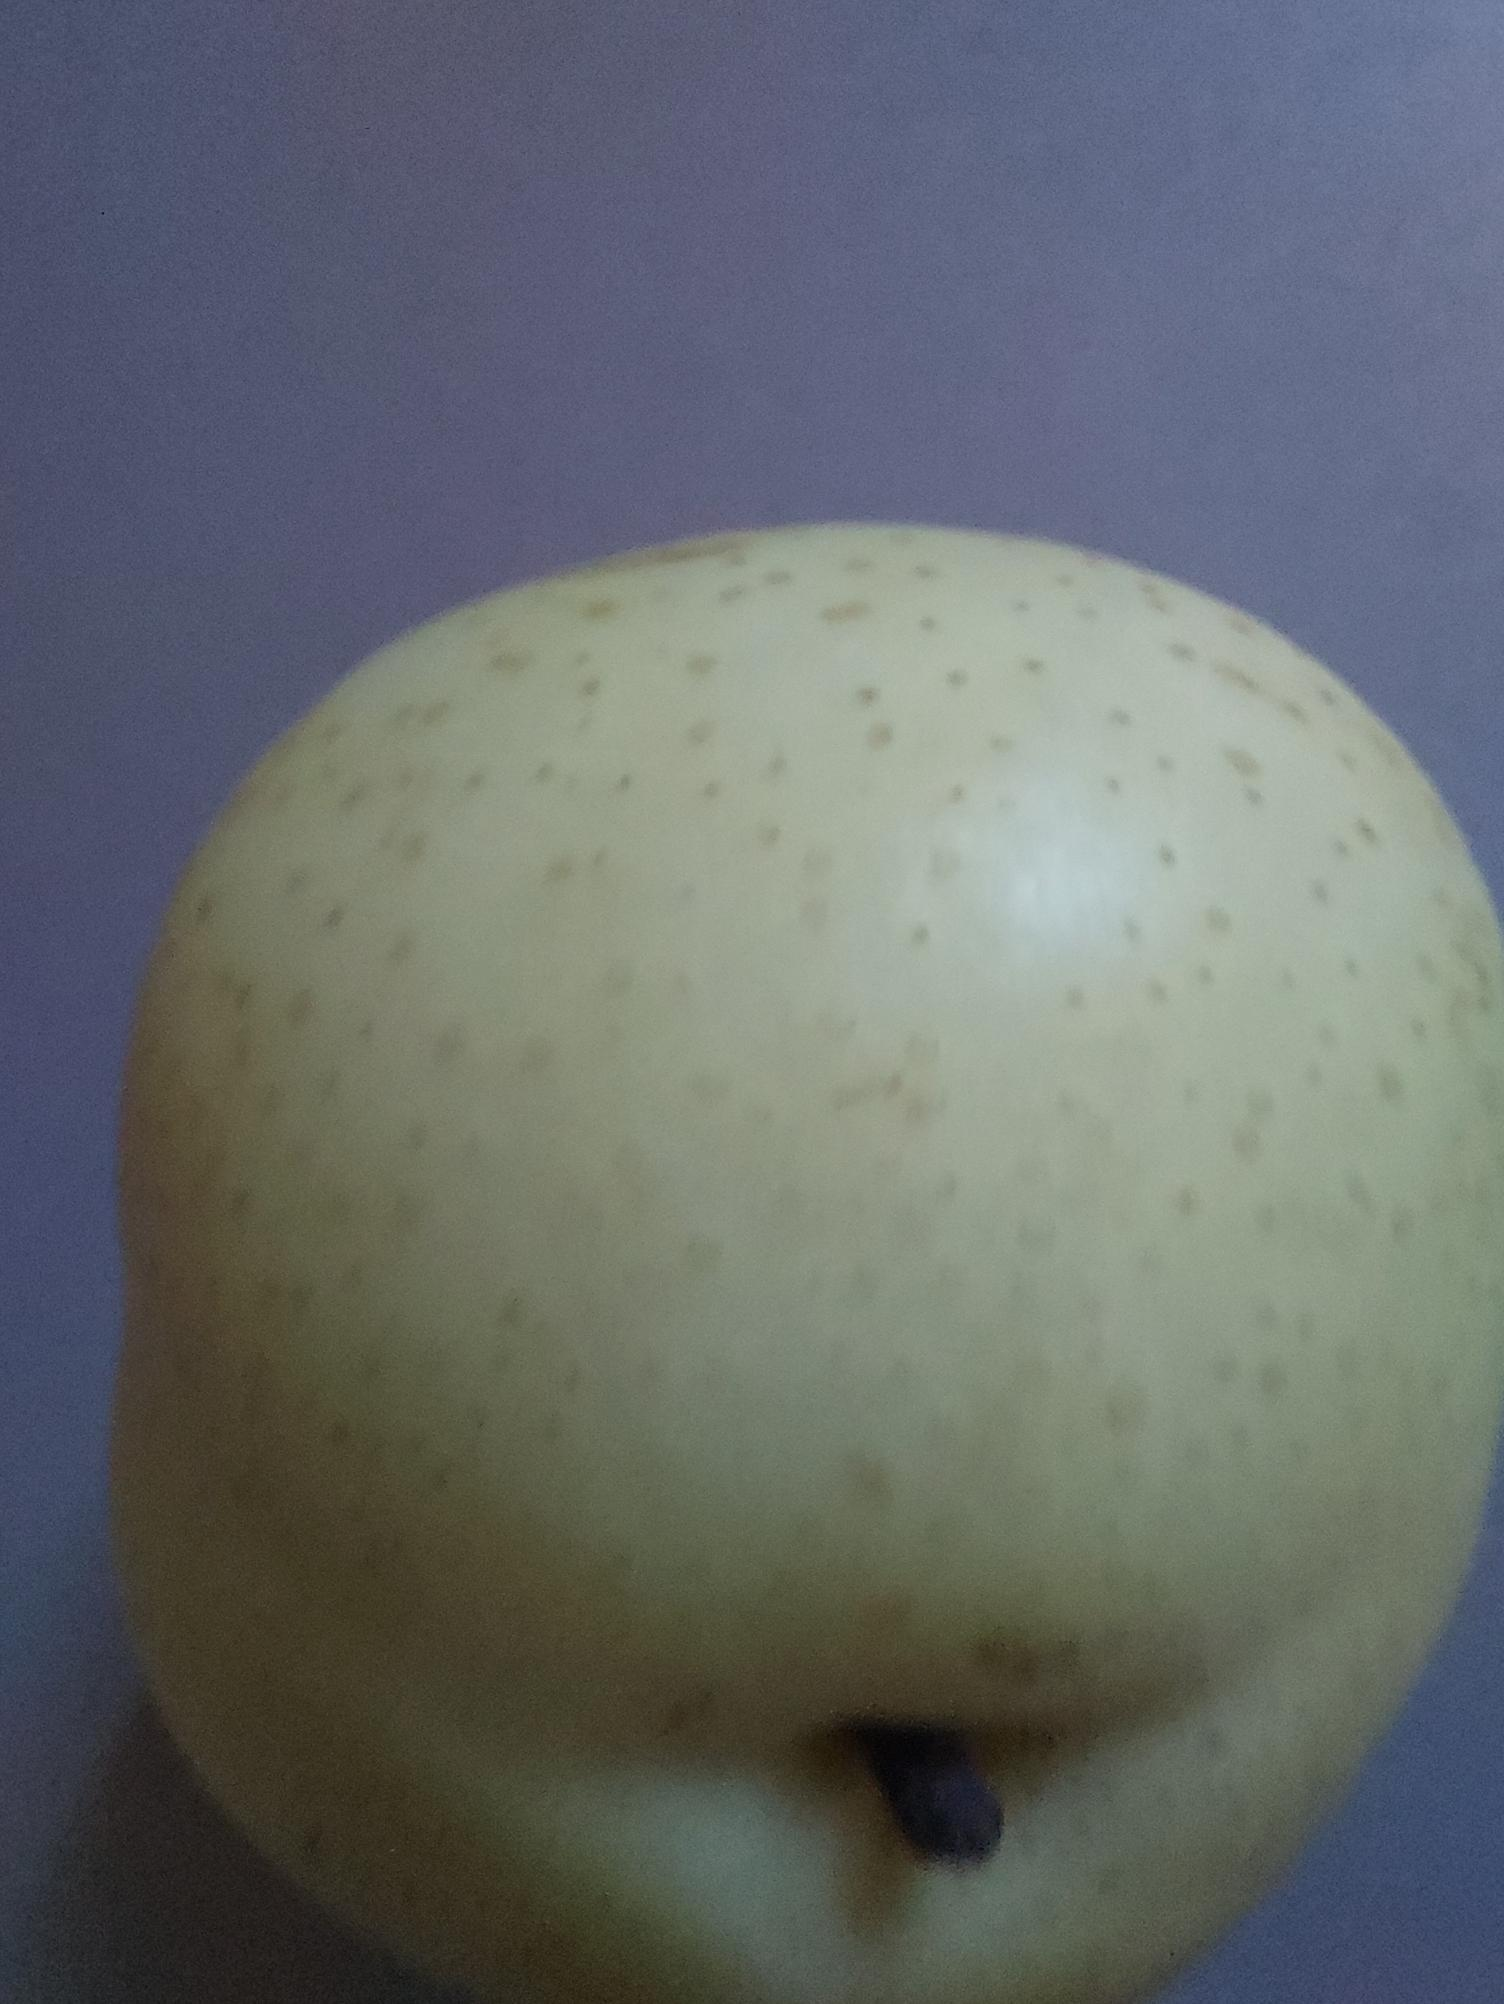Good Pear: (103, 512, 1504, 2004)
